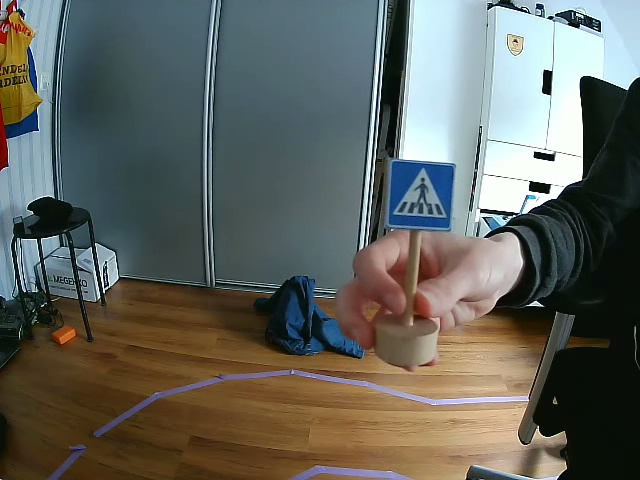zebrapad: (386, 160, 456, 229)
